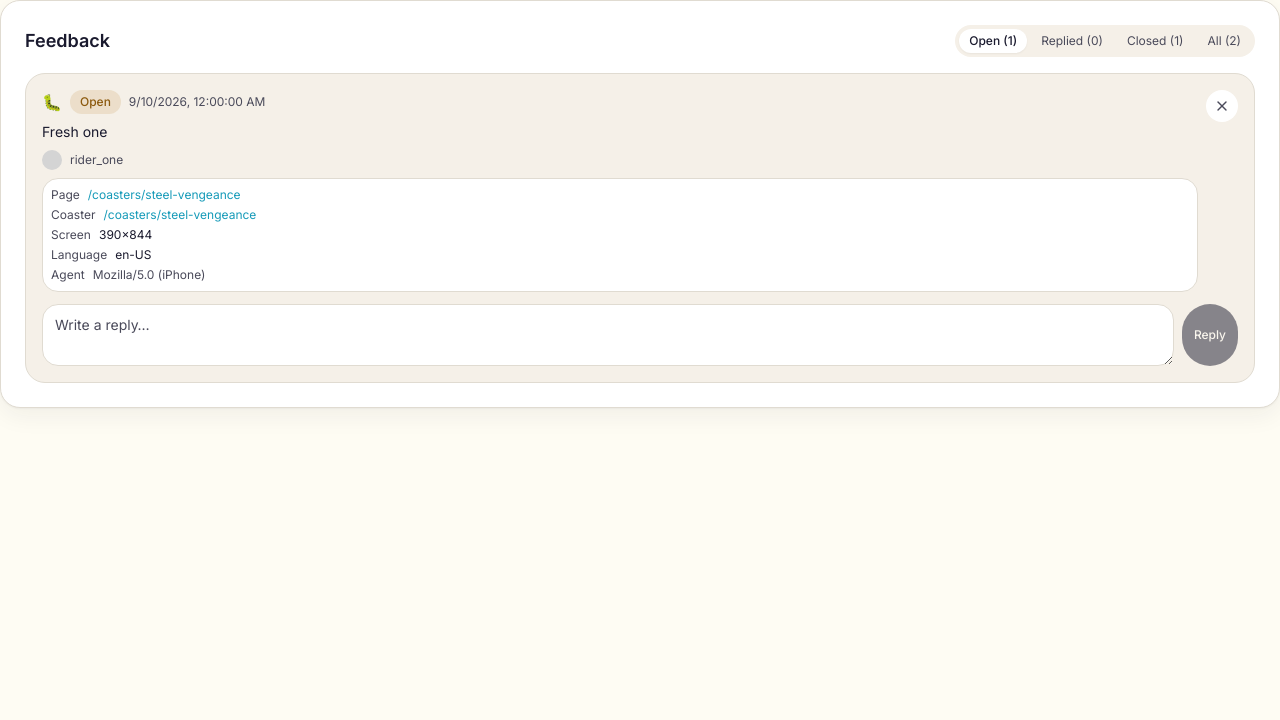
Test: FeedbackPanel › filters the queue by status
Check: the text "Fresh one" is shown, box [42, 123, 108, 140]
Check: the text "Done one" is not shown
Click the button "All (2)" at (1224,41), box [1198, 29, 1251, 53]
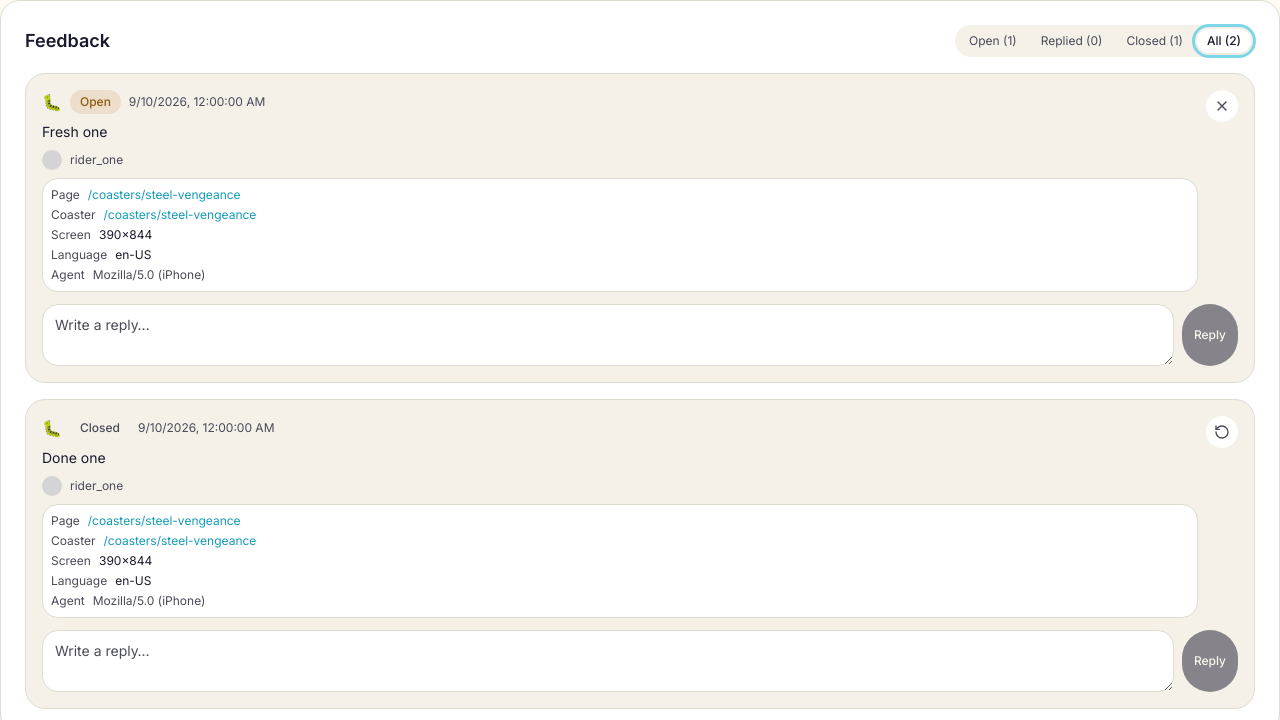
Check: the text "Fresh one" is shown, box [42, 123, 108, 140]
Check: the text "Done one" is shown, box [42, 449, 106, 466]
